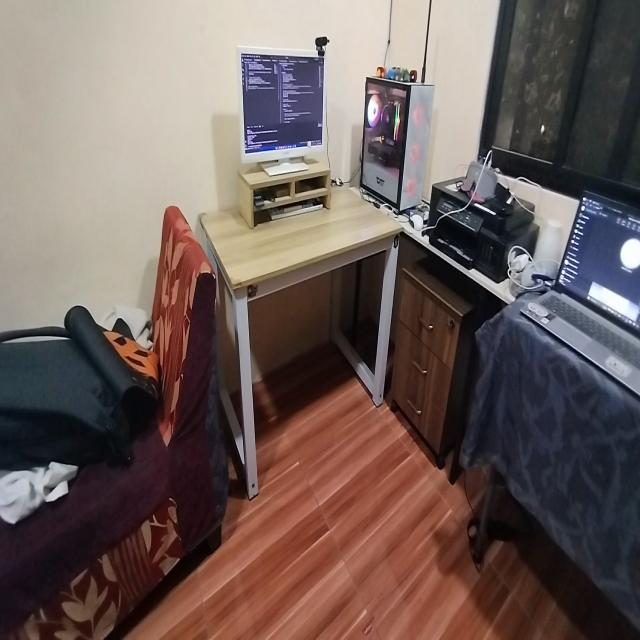table: (199, 177, 403, 502)
